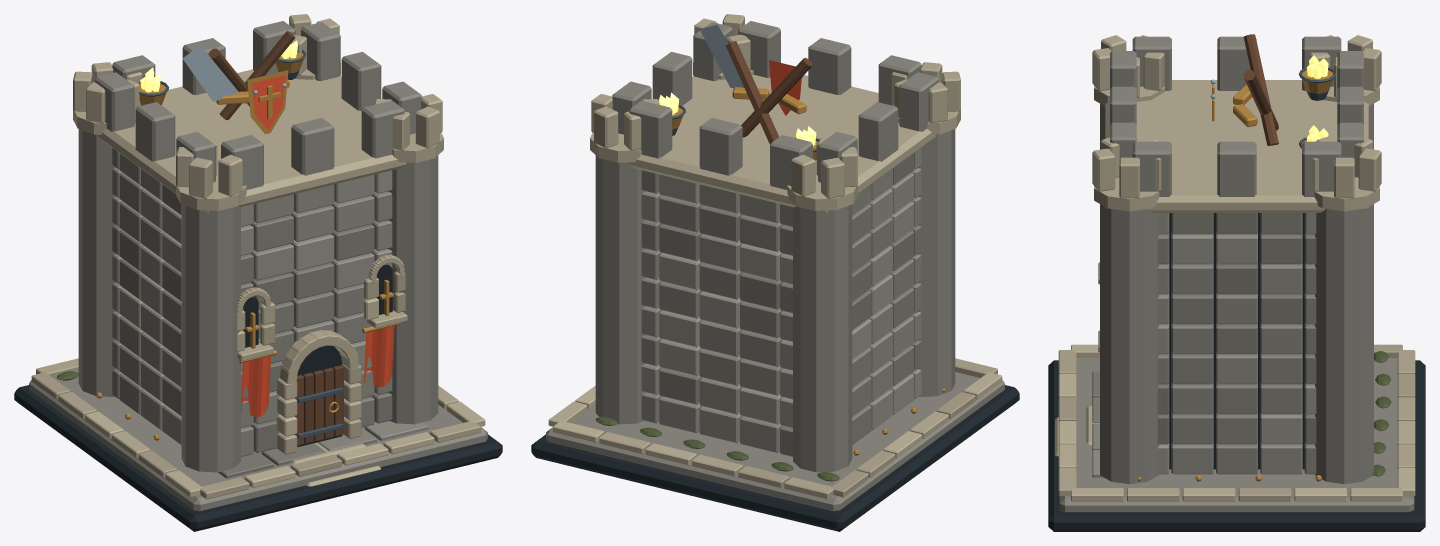
Rendered from militia__guerreiro__L15.glb.
3 renders of one model, left to right at view 1: azimuth 30°, elevation 25°; view 2: azimuth 150°, elevation 25°; view 3: azimuth 270°, elevation 25°, orthographic. The views are drawn at different scales.
Visible parts, largest first — view 1: structure, weapon, banners; view 2: structure, weapon; view 3: structure, weapon, effects.
Boxes of the visible parts, box(x1,y1,x2,y2) form: structure: box(14, 14, 502, 531); weapon: box(182, 31, 295, 134); banners: box(239, 322, 400, 417); structure: box(531, 14, 1019, 531); weapon: box(699, 24, 812, 143); structure: box(1048, 35, 1425, 531); weapon: box(1210, 34, 1278, 145); effects: box(1306, 55, 1328, 141).
Size of the model in its own units: 0.803 by 0.9702 by 0.803.
